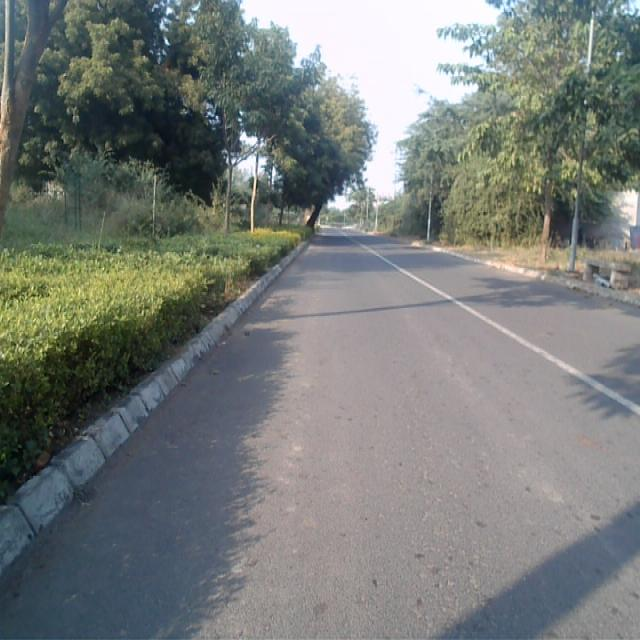lane: (1, 231, 640, 640)
